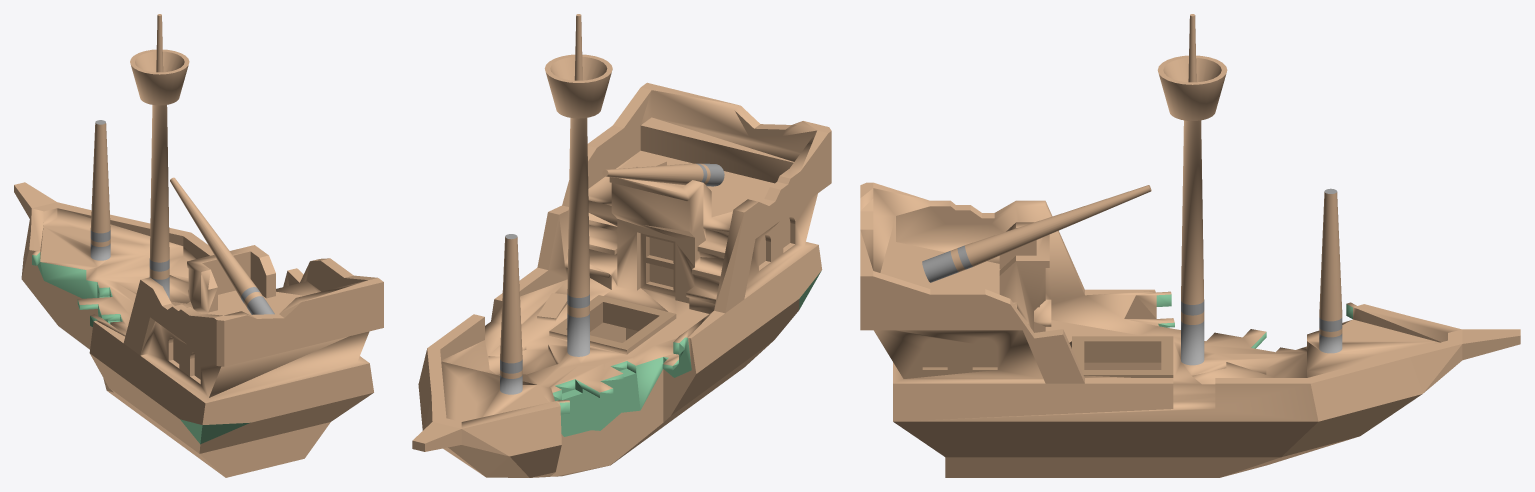
Rendered from Shipo.dae.
3 renders of one model, left to right at view 1: azimuth 30°, elevation 25°; view 2: azimuth 150°, elevation 25°; view 3: azimuth 270°, elevation 25°, orthographic. The views are drawn at different scales.
Visible parts, largest first — view 1: ship_wreck; view 2: ship_wreck; view 3: ship_wreck.
Boxes of the visible parts, x1=… form: ship_wreck: x1=14, y1=14, x2=383, y2=477; ship_wreck: x1=412, y1=14, x2=831, y2=477; ship_wreck: x1=860, y1=14, x2=1520, y2=477.
Size of the model in its own units: 28.5 by 80.49 by 59.21.
